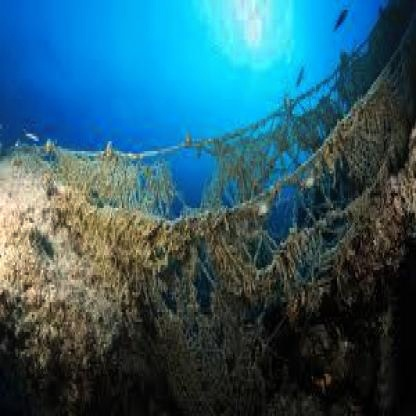net: (1, 94, 414, 416)
